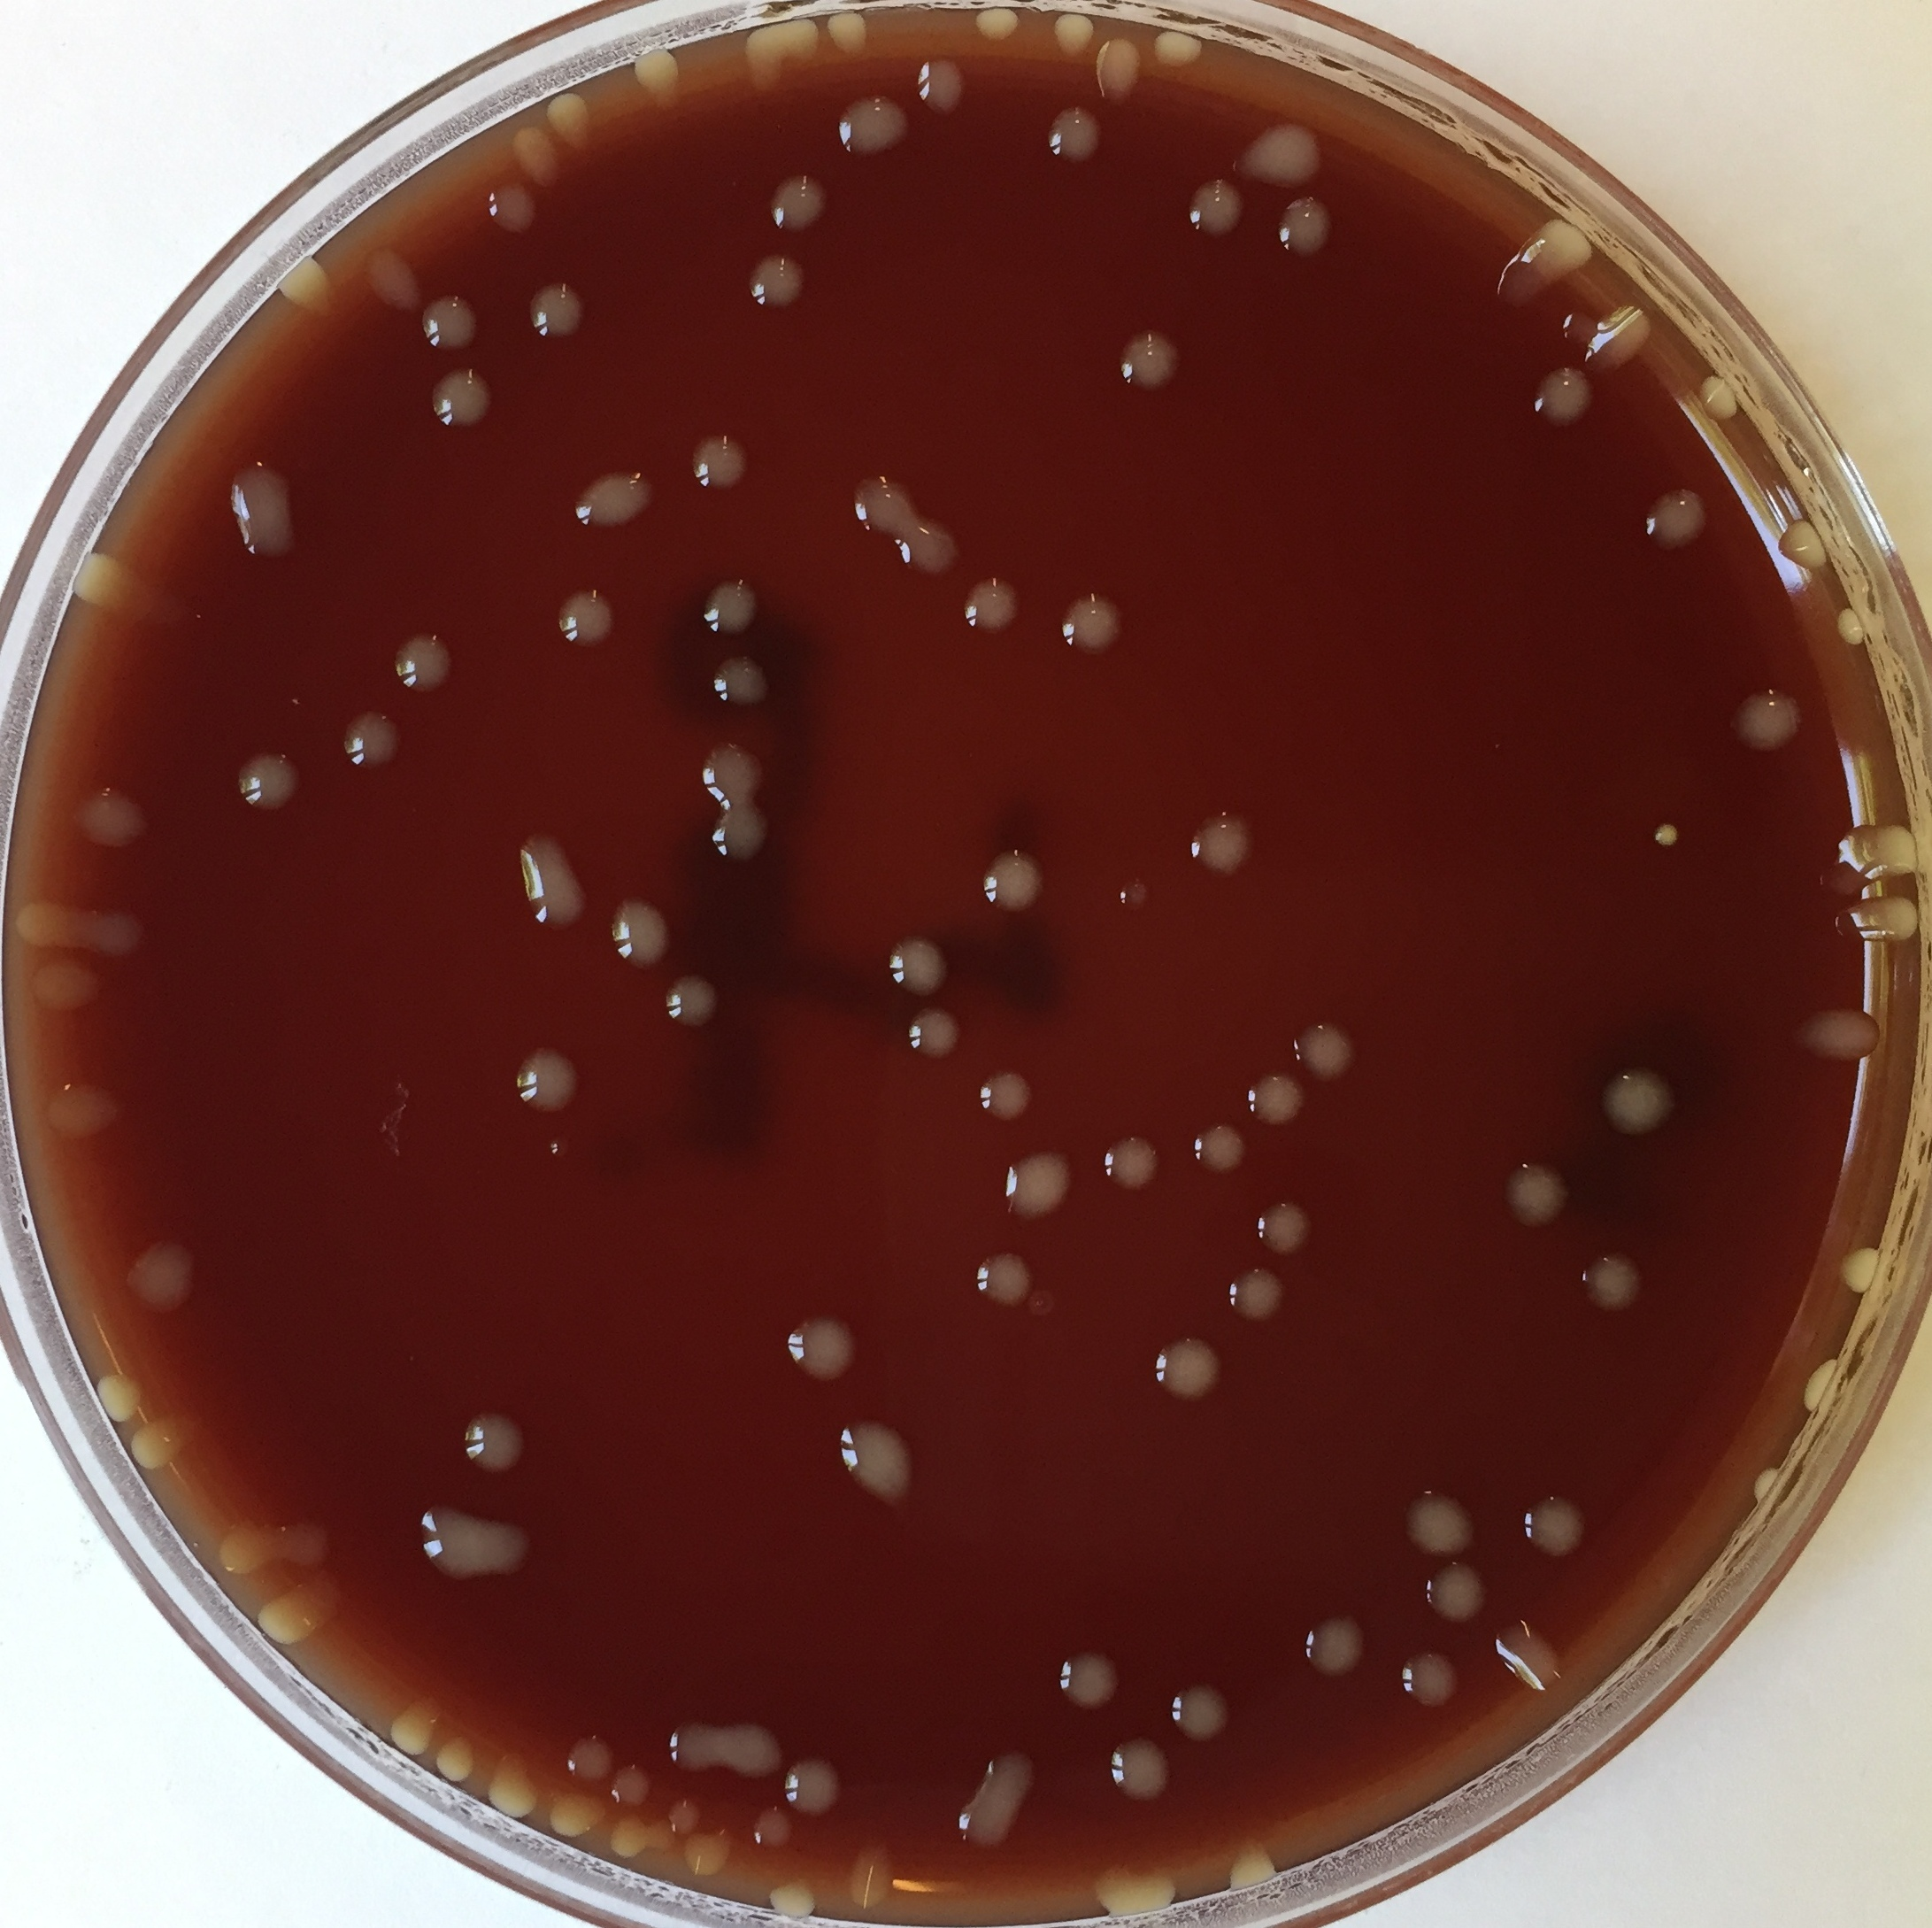sp19: (416, 1497, 535, 1587), (1484, 221, 1599, 307), (1814, 812, 1920, 900), (12, 895, 146, 962), (226, 454, 295, 574), (513, 833, 593, 936), (836, 1416, 917, 1511), (219, 1517, 335, 1582), (1232, 117, 1327, 194), (1595, 1063, 1683, 1141), (1493, 1621, 1574, 1704), (997, 1146, 1082, 1225), (568, 463, 656, 538), (1399, 1487, 1480, 1568), (254, 1575, 341, 1649), (64, 779, 150, 851), (1789, 1001, 1884, 1065), (785, 1307, 861, 1386), (835, 88, 914, 164), (26, 950, 109, 1022), (730, 25, 822, 90), (124, 1236, 198, 1315), (1500, 1151, 1574, 1231), (1586, 298, 1655, 381), (508, 1042, 580, 1119), (360, 244, 429, 325), (1577, 1246, 1648, 1324), (1727, 689, 1807, 757), (1517, 1490, 1591, 1563), (1055, 591, 1127, 666), (1186, 807, 1258, 879), (974, 844, 1048, 915), (695, 736, 771, 805), (46, 1075, 124, 1141), (607, 893, 672, 971), (1149, 1338, 1226, 1404), (1090, 1863, 1179, 1919), (273, 252, 344, 323), (420, 286, 487, 360), (1292, 1015, 1360, 1086), (526, 277, 591, 351), (1831, 895, 1920, 950), (1300, 1614, 1369, 1683), (1424, 1559, 1493, 1628), (1641, 486, 1711, 553), (556, 584, 619, 659), (882, 932, 953, 998), (392, 625, 453, 699), (462, 1411, 529, 1478), (847, 468, 912, 537), (1060, 1647, 1126, 1716), (1113, 330, 1182, 395), (1270, 194, 1339, 260), (715, 1709, 780, 1778), (69, 549, 139, 613), (1110, 1732, 1173, 1803), (762, 171, 833, 235), (628, 44, 688, 118), (236, 747, 303, 812), (1223, 1262, 1288, 1329), (538, 90, 603, 157), (958, 1739, 1039, 1792), (1246, 1066, 1311, 1132), (1164, 1683, 1232, 1746), (1184, 177, 1247, 244), (898, 516, 963, 579), (1097, 1133, 1164, 1195), (427, 369, 496, 429), (960, 572, 1023, 636), (783, 1751, 845, 1817), (916, 55, 976, 122), (508, 120, 561, 196), (709, 646, 771, 710), (339, 710, 402, 772), (1041, 106, 1105, 168), (951, 1796, 1016, 1856), (129, 1414, 196, 1472), (690, 429, 748, 494), (974, 1248, 1032, 1314), (842, 1840, 896, 1909), (386, 1695, 445, 1759), (1530, 369, 1595, 426), (702, 570, 757, 636), (487, 1753, 540, 1820), (1254, 1197, 1313, 1257), (665, 1713, 715, 1783), (711, 800, 768, 862), (902, 1006, 965, 1061), (662, 969, 718, 1029), (974, 1070, 1034, 1126), (545, 1789, 612, 1838), (1094, 39, 1143, 106), (482, 182, 543, 235), (746, 251, 801, 309), (1223, 1841, 1283, 1894), (1403, 1653, 1457, 1709), (1777, 516, 1830, 574), (563, 1728, 618, 1783), (1193, 1123, 1247, 1176), (685, 1824, 736, 1880), (97, 1368, 146, 1427), (762, 1873, 819, 1923), (826, 18, 882, 67), (1835, 1243, 1884, 1298), (1697, 369, 1741, 429), (1154, 23, 1210, 69), (432, 1730, 478, 1783), (1801, 1351, 1838, 1416), (750, 1804, 796, 1856), (1050, 11, 1096, 62), (974, 2, 1025, 46), (607, 1811, 651, 1857), (1113, 872, 1156, 918), (610, 1760, 649, 1810), (1560, 304, 1599, 351), (1833, 602, 1868, 653), (663, 1796, 704, 1836), (1747, 1465, 1789, 1504), (642, 1813, 679, 1852), (543, 1128, 573, 1162)
